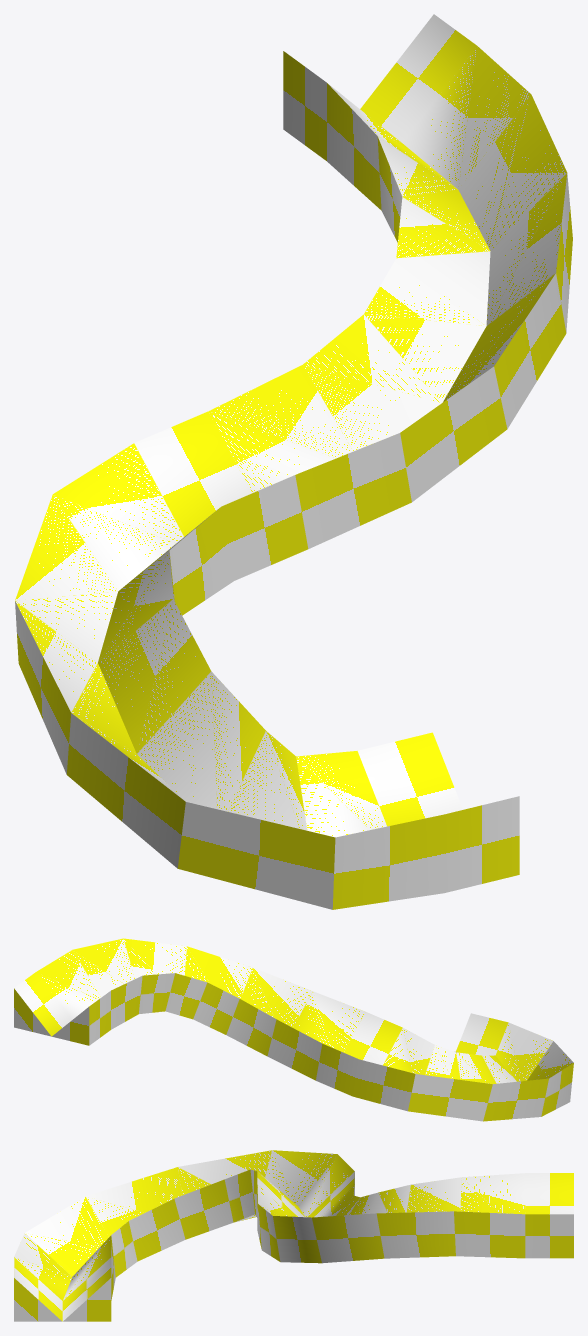
Rendered from wandao.fbx.
The picture shows the model from 3 angles, top to bottom: view 1: azimuth 30°, elevation 25°; view 2: azimuth 150°, elevation 25°; view 3: azimuth 270°, elevation 25°; orthographic projection. The views are drawn at different scales.
Parts seen in each view (by area): view 1: polySurface2; view 2: polySurface2; view 3: polySurface2.
Part boxes in pixels (x1,y1,x2,y2): polySurface2: (15,14,572,909); polySurface2: (14,938,573,1121); polySurface2: (14,1150,573,1321).
Size of the model in its own units: 9.52 by 5.04 by 11.5.
1 material, 1 textured.
